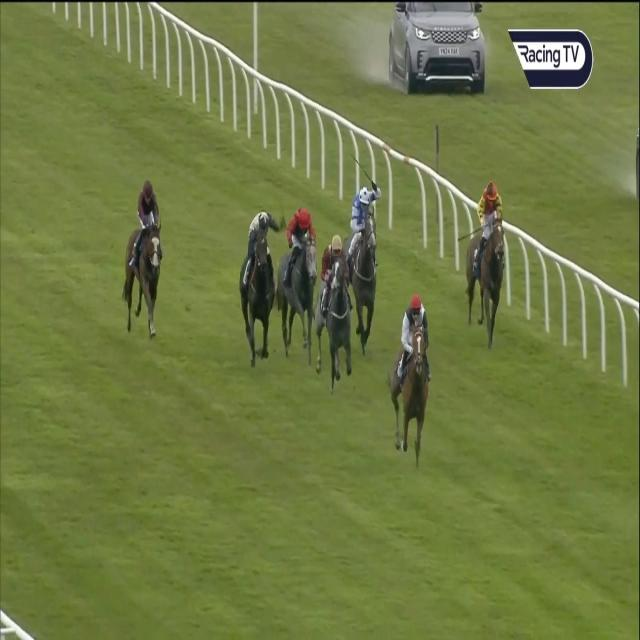horses-racing: (382, 293, 437, 459), (342, 161, 388, 358), (233, 196, 284, 359), (117, 178, 167, 336), (462, 177, 506, 339), (278, 201, 319, 364), (314, 232, 352, 392)
